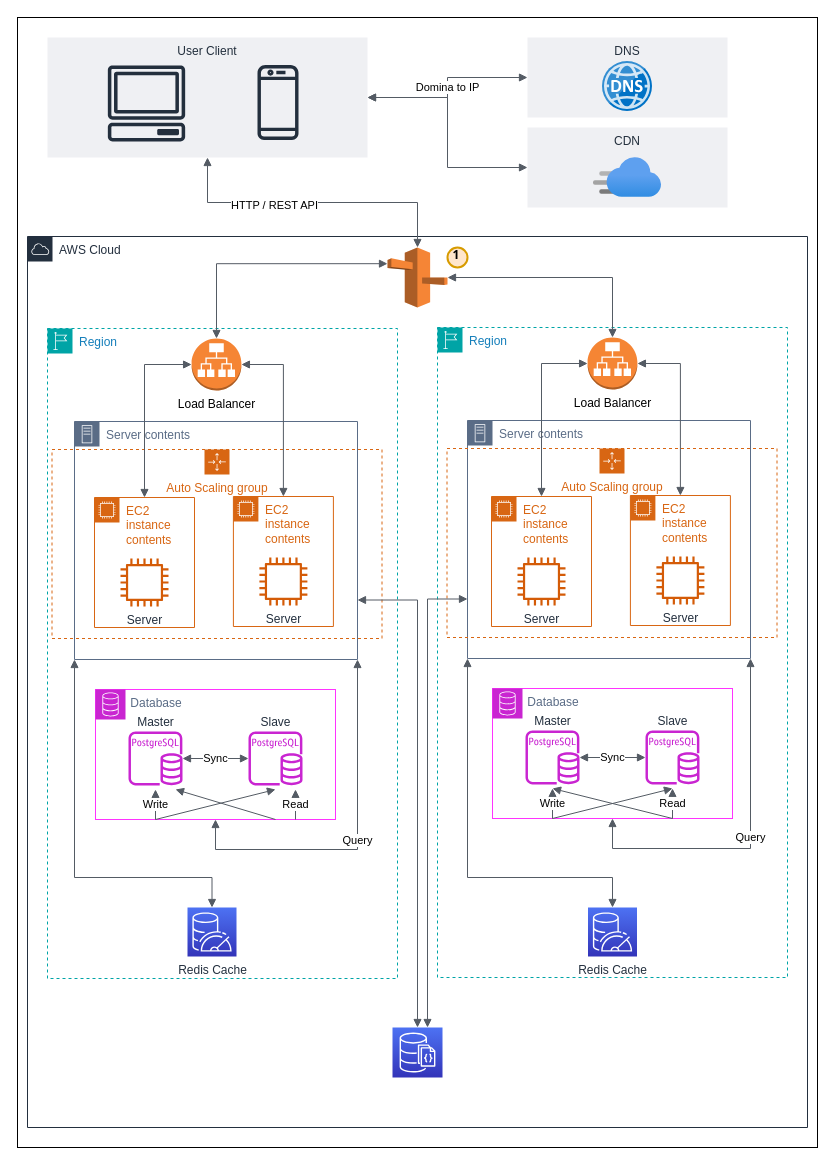
Some shapes in this 835 by 1165 pixel diagram are drawn without their labels. Each missing label, with the centre of its shape:
"NoSQL DocumentDB" belongs at pixel 417 1052.
"Route" belongs at pixel 417 277.
